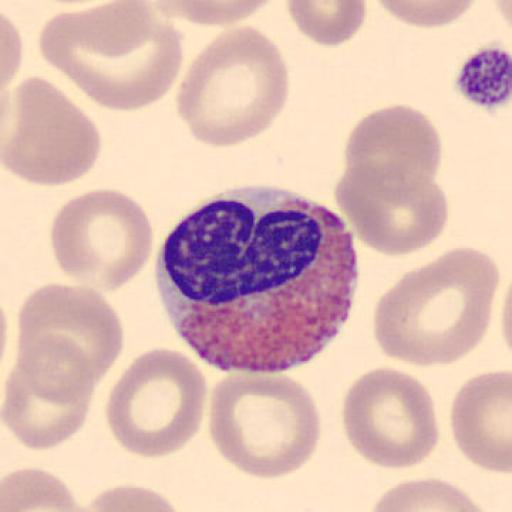Platelet: (451, 41, 512, 113)
RBC: (38, 0, 185, 114), (371, 245, 501, 369), (175, 24, 290, 148), (208, 372, 322, 480), (104, 346, 208, 460), (48, 187, 154, 294), (16, 281, 125, 385), (3, 74, 102, 188), (335, 160, 450, 257), (2, 335, 96, 451), (341, 364, 440, 472), (342, 102, 444, 202), (449, 368, 512, 474), (366, 475, 497, 512), (1, 465, 97, 512), (286, 0, 368, 47), (147, 0, 280, 27), (373, 0, 479, 30), (86, 482, 190, 512), (0, 6, 24, 92), (499, 267, 512, 358), (493, 0, 512, 53), (492, 0, 512, 31)
WBC: (156, 185, 360, 372)
